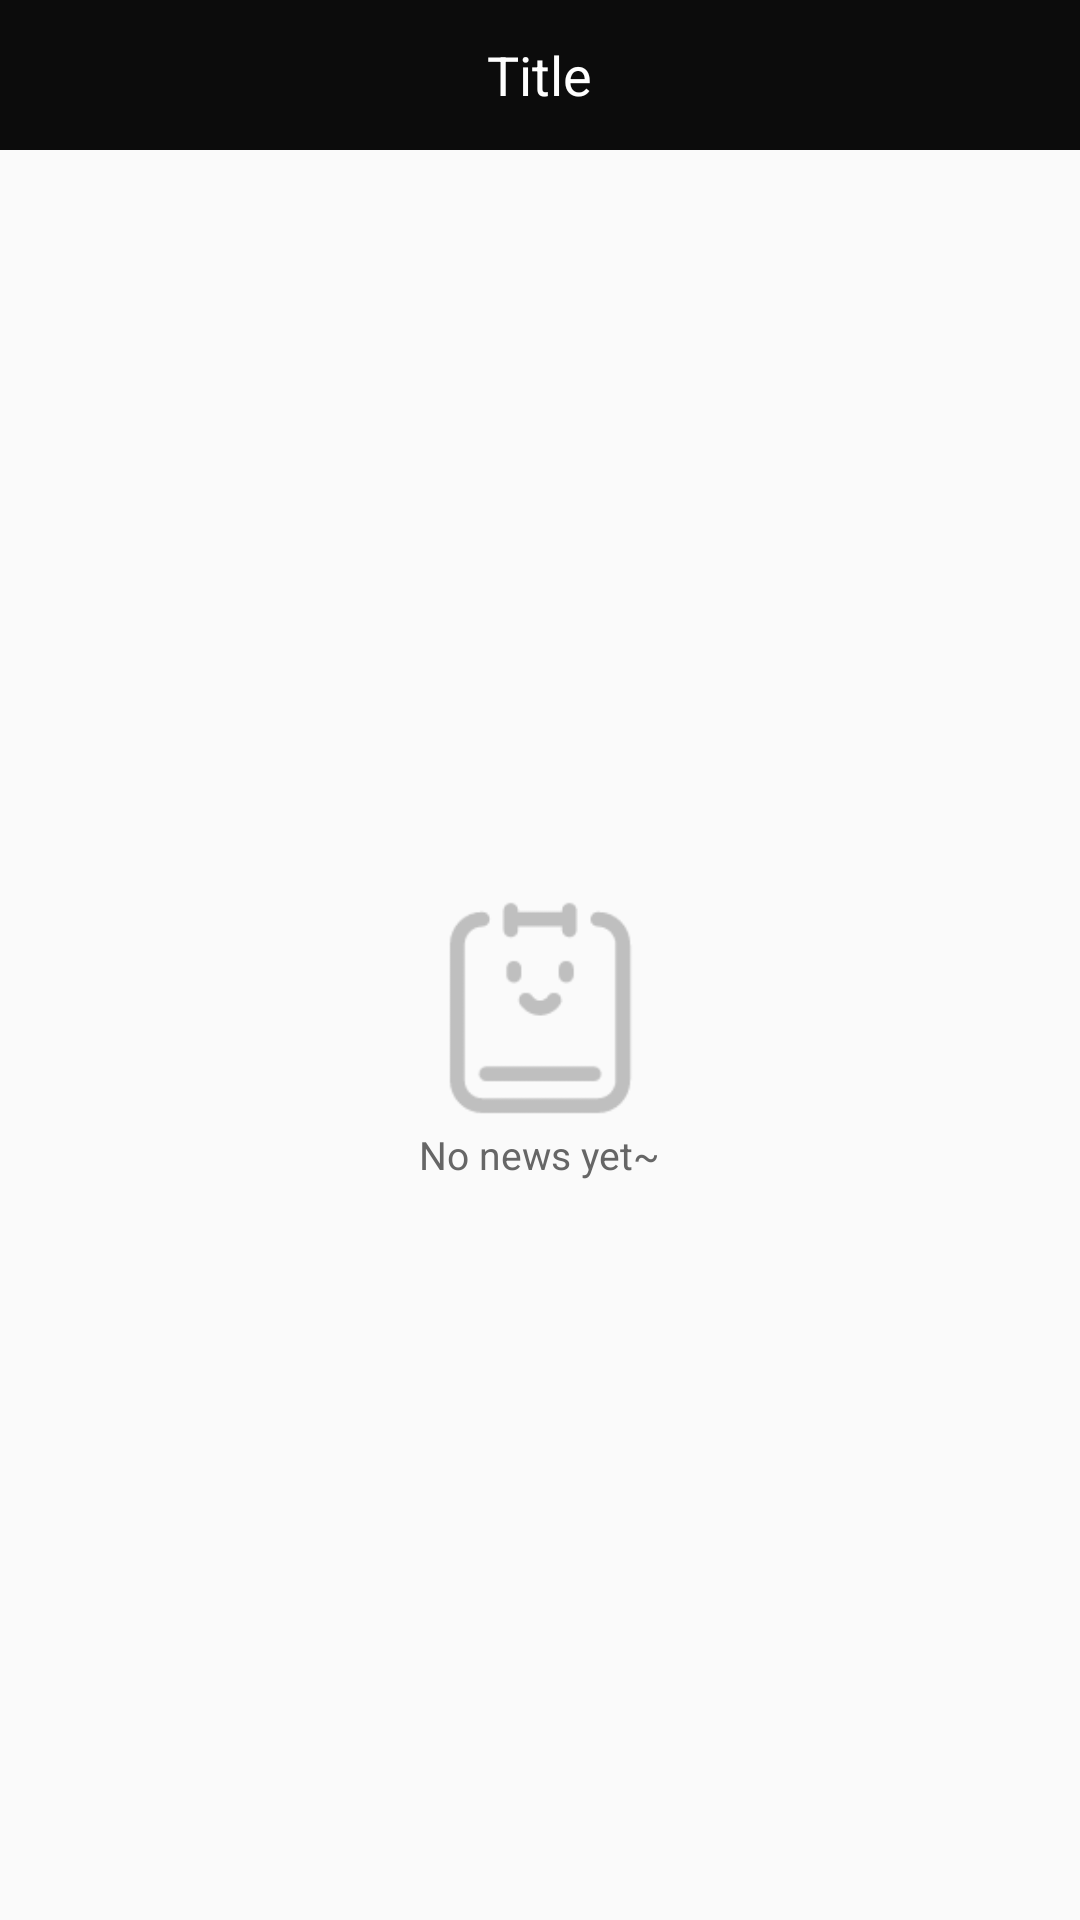

Icons on this 1080×1920 Android screen, each with its box as (x1, y1, x2, y2):
empyt order: (450, 903, 631, 1113)
